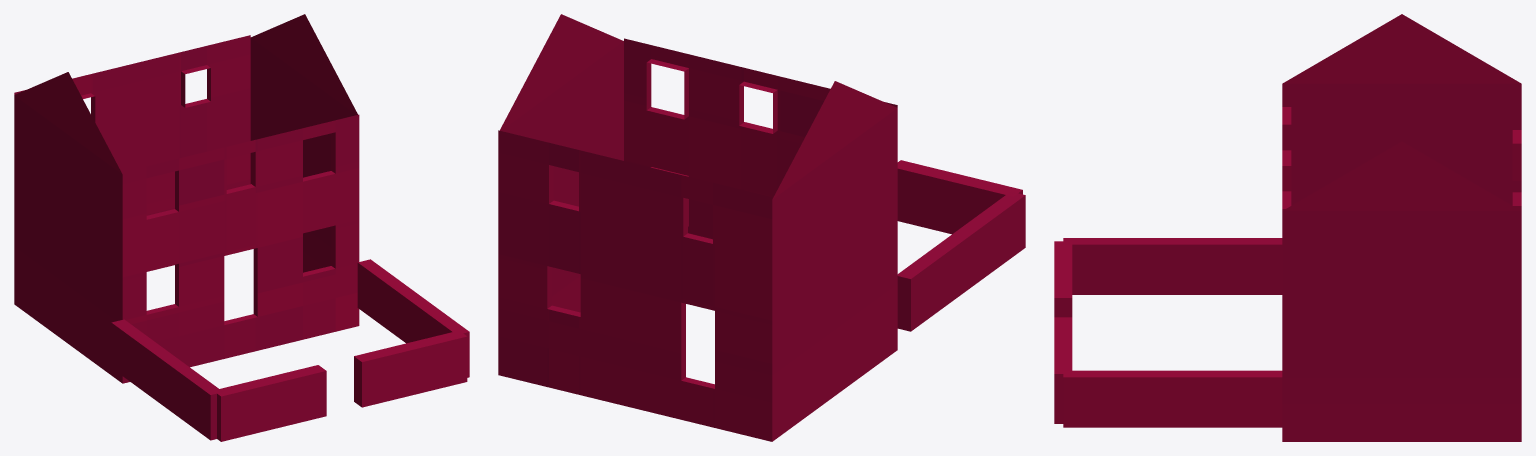
Rendered from SM_Bld_020_Masonry.glb.
3 views of the same model, side by side, from view 1: azimuth 30°, elevation 25°; view 2: azimuth 150°, elevation 25°; view 3: azimuth 270°, elevation 25° (orthographic). The views are drawn at different scales.
Visible parts, largest first — view 1: SM_Bld_020_Masonry; view 2: SM_Bld_020_Masonry; view 3: SM_Bld_020_Masonry.
Boxes of the visible parts, x1,y1,x2,y2 form: SM_Bld_020_Masonry: (14,14,469,441); SM_Bld_020_Masonry: (498,14,1025,441); SM_Bld_020_Masonry: (1054,14,1521,441).
Size of the model in its own units: 8.04 by 8.07 by 11.38.
